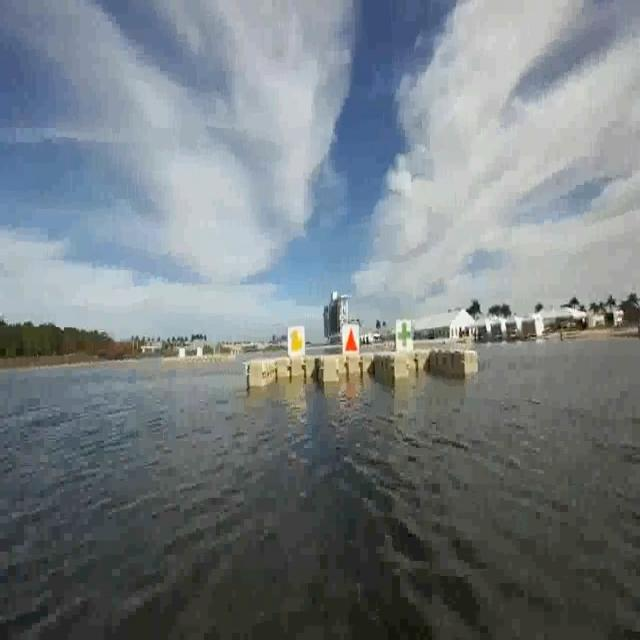blue-cross: (395, 320, 415, 353)
red-dot: (338, 324, 360, 356)
yellow-duck: (286, 329, 305, 357)
